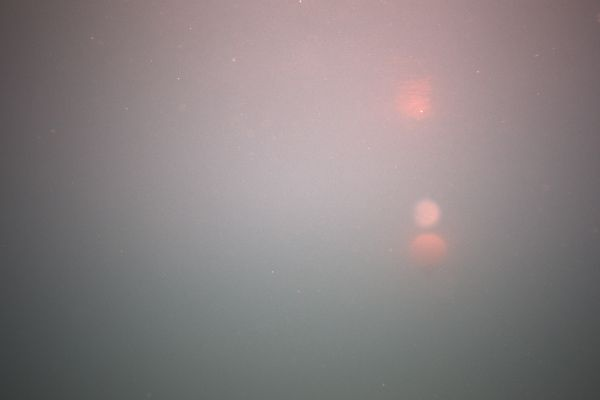buoy: (408, 235, 446, 279)
